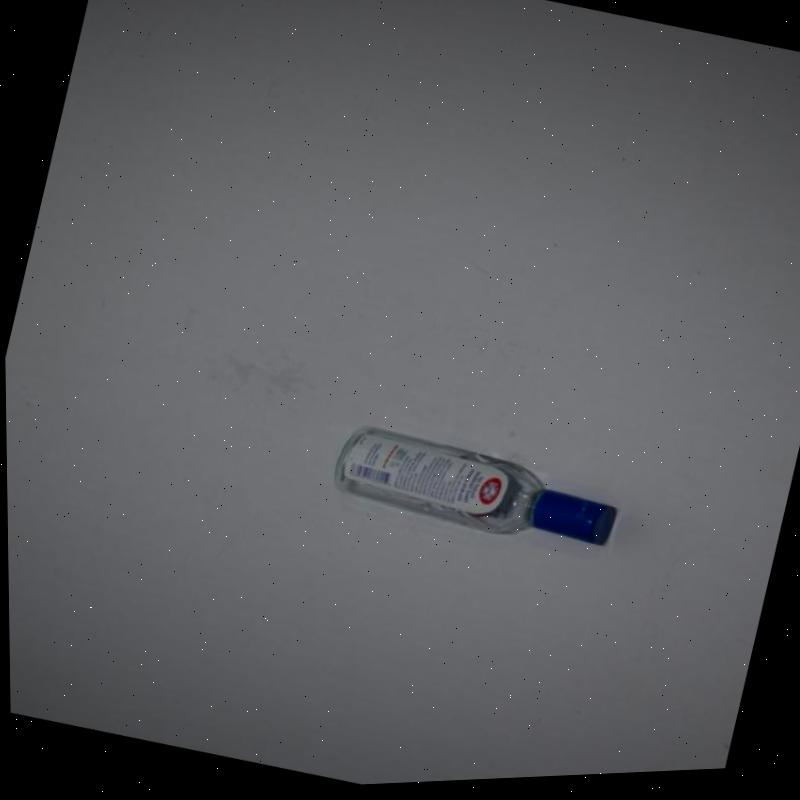botella: (323, 412, 629, 575)
